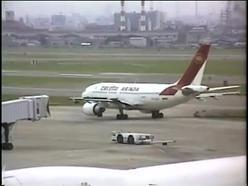aircraft: (68, 44, 242, 119)
